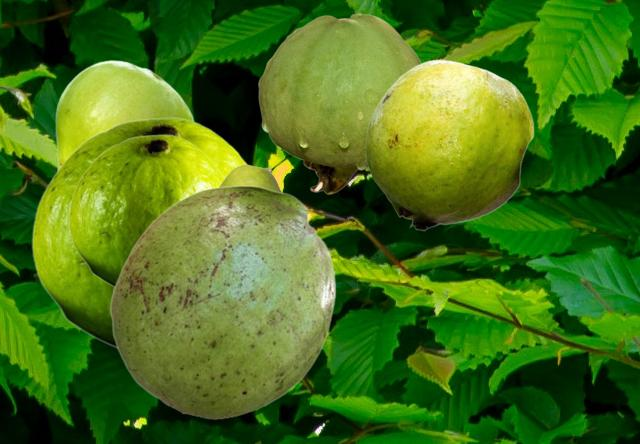guava: (109, 185, 335, 418), (31, 117, 247, 350), (258, 13, 421, 193), (365, 59, 533, 230), (68, 134, 223, 286), (54, 60, 195, 168), (219, 164, 282, 191)
